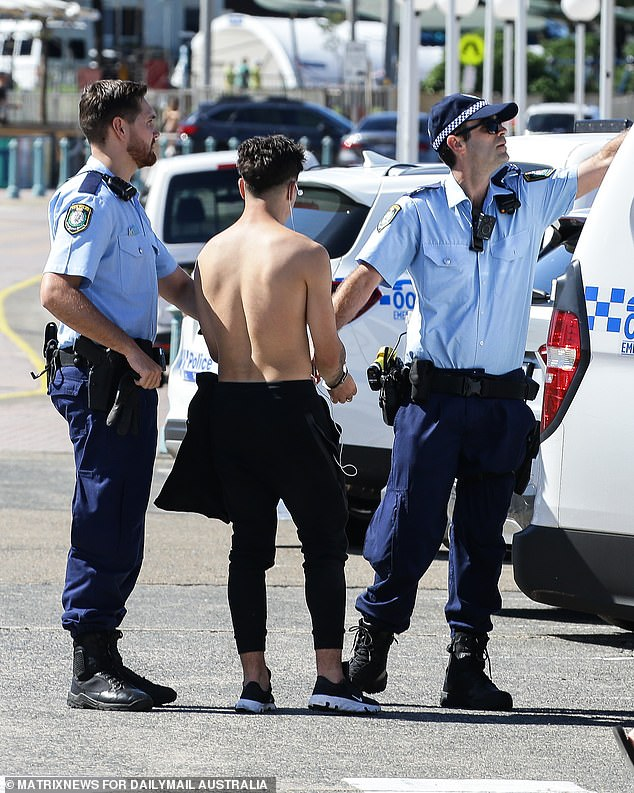Person: (357, 94, 537, 710), (41, 75, 195, 709), (196, 132, 357, 708)
